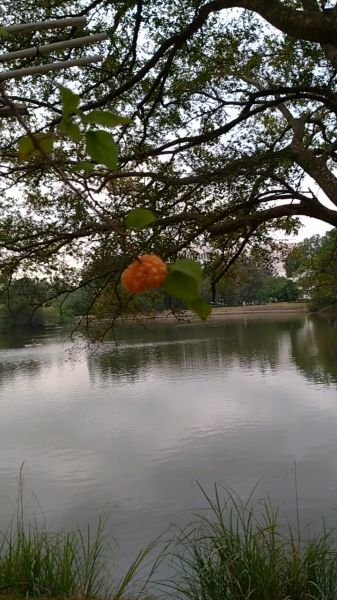eggs: (115, 254, 173, 299)
